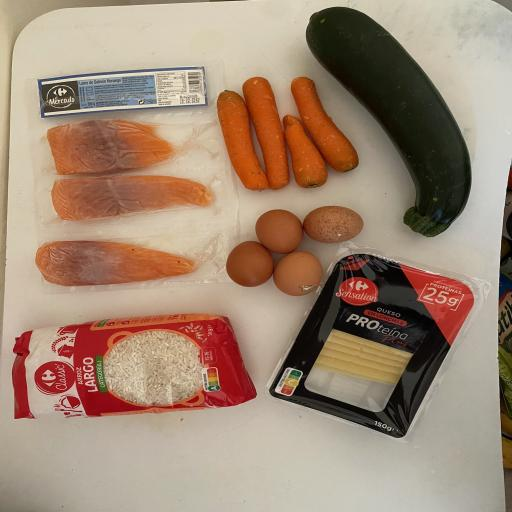carrot: (289, 72, 361, 174), (214, 86, 270, 194), (241, 75, 292, 193), (275, 112, 330, 190)
cheese: (267, 251, 480, 441)
courgette: (305, 3, 473, 240)
egg: (222, 238, 275, 290), (274, 249, 326, 298), (254, 208, 306, 256), (303, 205, 364, 244)
rice: (9, 312, 257, 424)
salmon: (33, 236, 200, 292), (43, 116, 179, 176), (49, 176, 217, 223)
